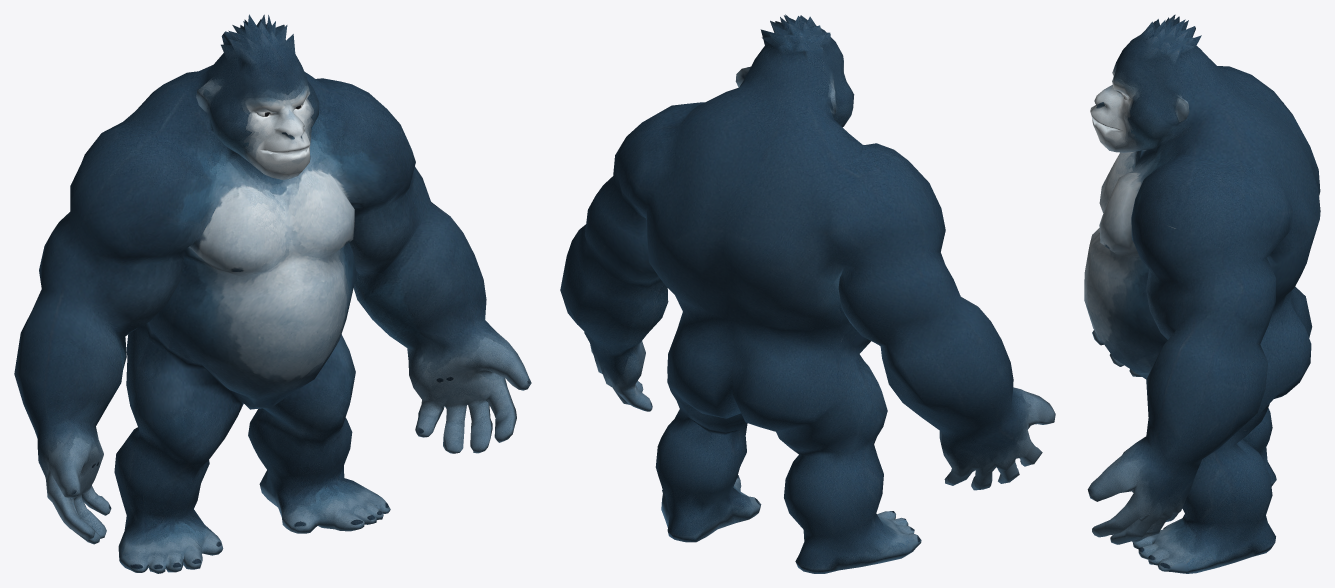
Rendered from Meshy_AI_Gorilla_Guardian_1023000931_texture.glb.
The picture shows the model from 3 angles, left to right: view 1: azimuth 30°, elevation 25°; view 2: azimuth 150°, elevation 25°; view 3: azimuth 270°, elevation 25°; orthographic projection. The views are drawn at different scales.
Bounding box in the file's own units: 0.9282 × 1 × 0.4318.
Materials: 1 (1 with a texture image).
